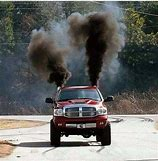smoke: (69, 14, 122, 83), (26, 29, 71, 88)
